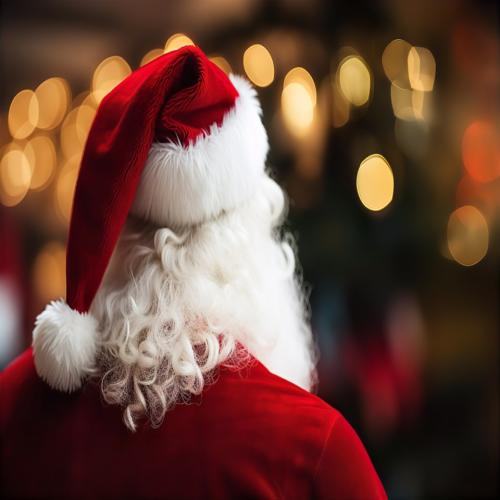Santa: (0, 44, 387, 499)
